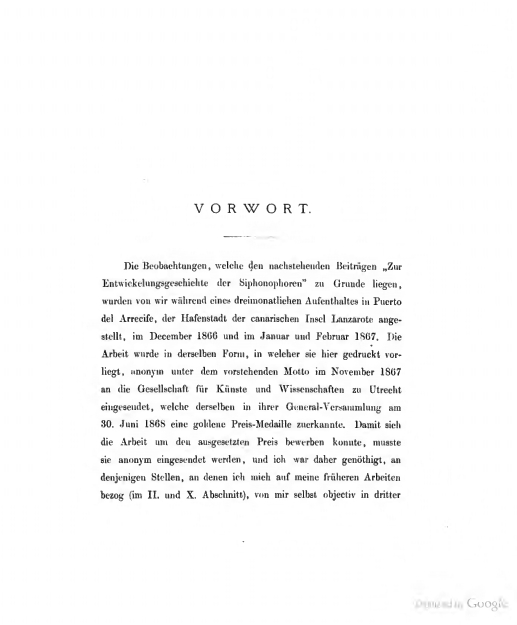Customzone_title: (149, 189, 343, 230)
MainZone: (84, 241, 427, 524)
NoiseZone: (406, 590, 517, 625)
